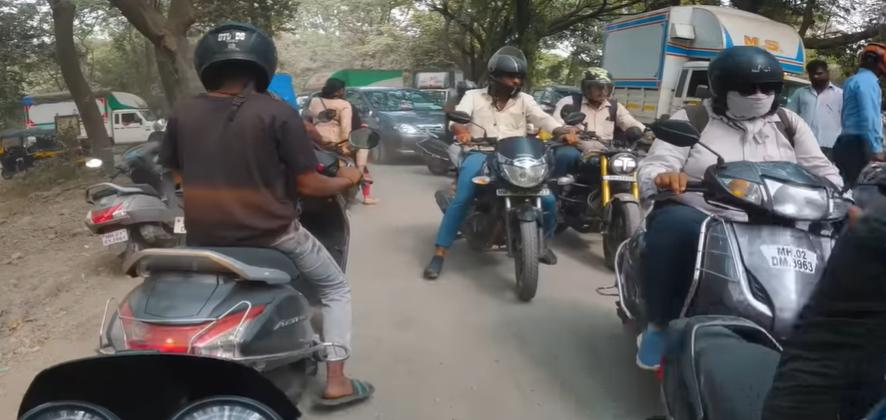front: (701, 167, 840, 317), (488, 144, 558, 294), (702, 43, 801, 127)
rear: (110, 220, 267, 399)
